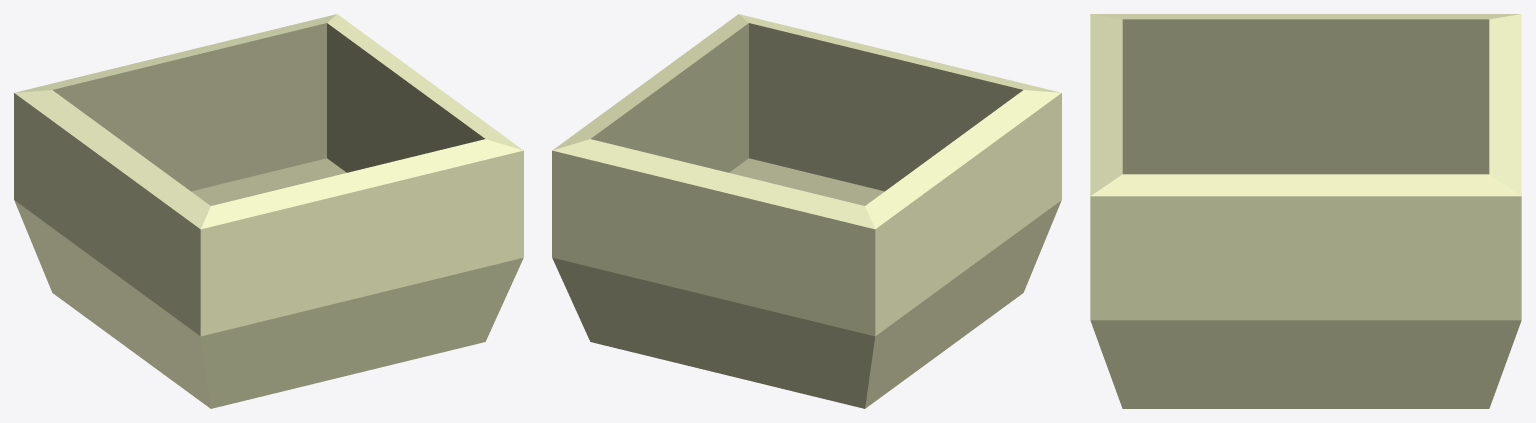
The model's file is FoodCup.dae.
The picture shows the model from 3 angles, left to right: view 1: azimuth 30°, elevation 25°; view 2: azimuth 150°, elevation 25°; view 3: azimuth 270°, elevation 25°; orthographic projection. The views are drawn at different scales.
Visible parts, largest first — view 1: Cube; view 2: Cube; view 3: Cube.
Part boxes in pixels (x1=…): Cube: x1=14, y1=14, x2=523, y2=408; Cube: x1=552, y1=14, x2=1061, y2=408; Cube: x1=1090, y1=14, x2=1521, y2=408.
Bounding box in the file's own units: 0.125 × 0.125 × 0.075.
